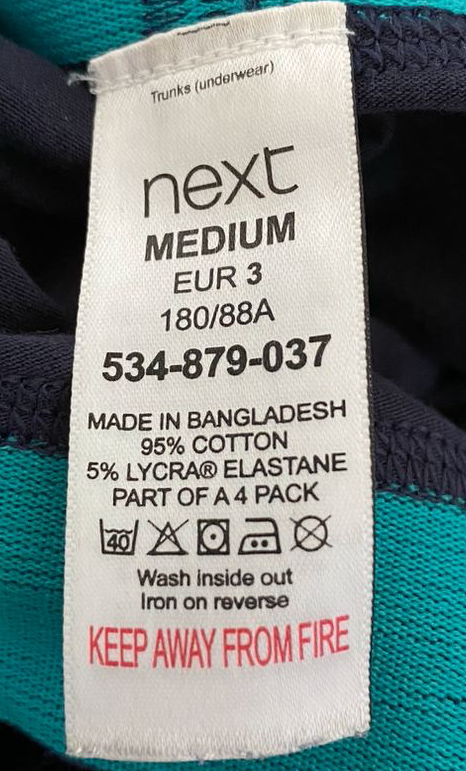do_not_bleach: (144, 517, 193, 560)
do_not_dry_clean: (288, 509, 335, 554)
ironing_at_med_temp: (232, 511, 286, 558)
tumble_drying_low_temps: (194, 516, 234, 556)
wash_at_or_below_40: (98, 515, 139, 558)
